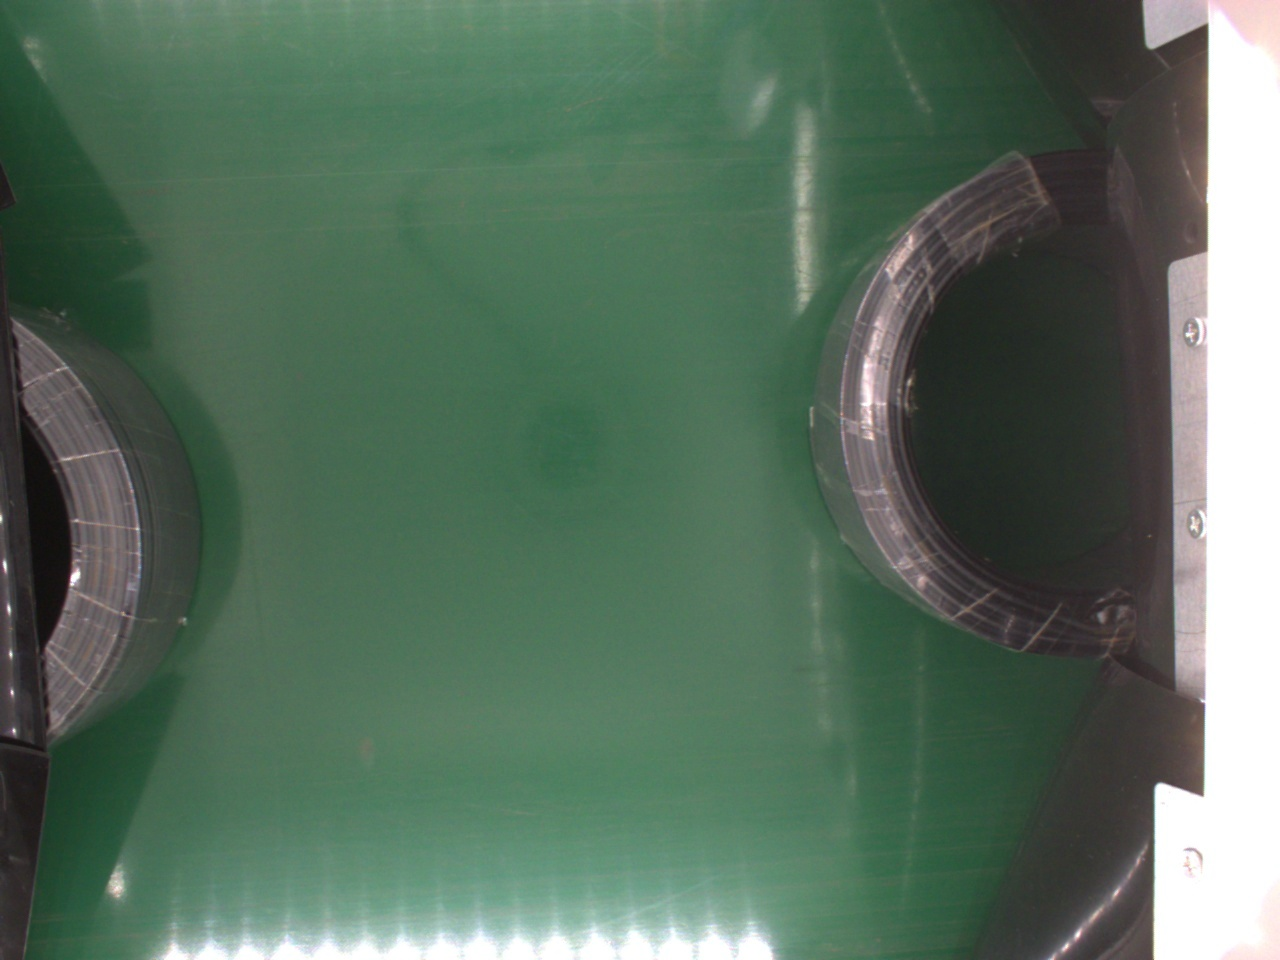black: (821, 147, 1175, 664), (7, 304, 204, 743)
